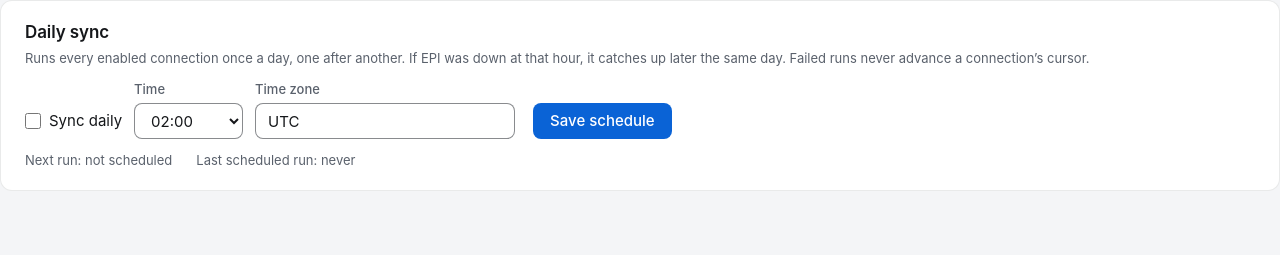
SyncScheduleCard › saves the schedule with the CSRF header and shows the next run
Expected: the text "Next run: not scheduled" is shown, [25, 151, 172, 170]
Click the checkbox labelled "Sync daily".
click(33, 121)  # box [25, 113, 41, 129]
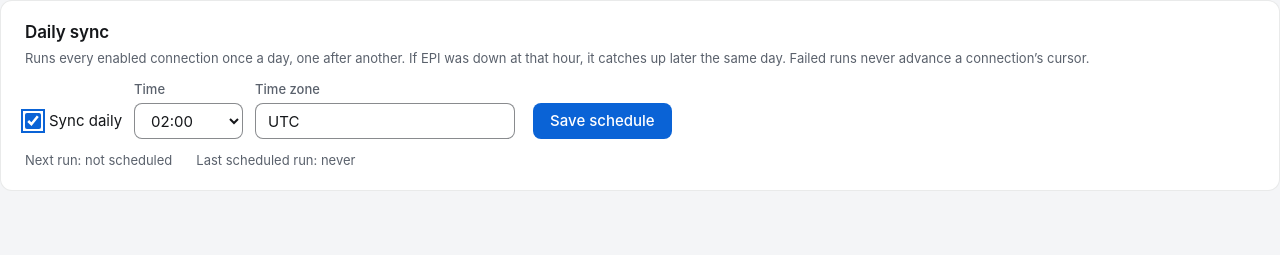
Select "03:00" in the dropdown labelled "Time" at [189, 121], box [134, 103, 243, 139]
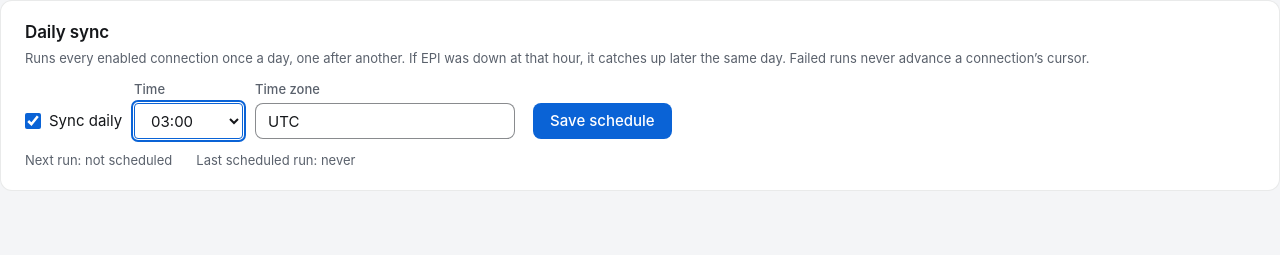
Replace the text in the field labelled "Time zone" with "Asia/Jerusalem" at [385, 121], box [255, 103, 515, 139]
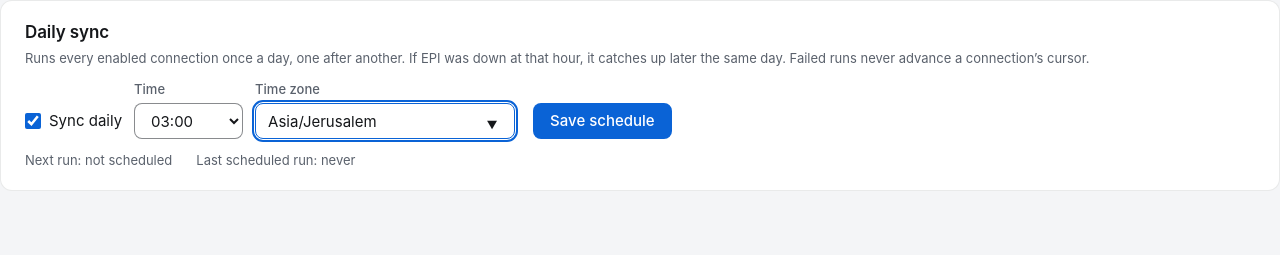
Click the button "Save schedule".
click(602, 121)  # box [533, 103, 672, 139]
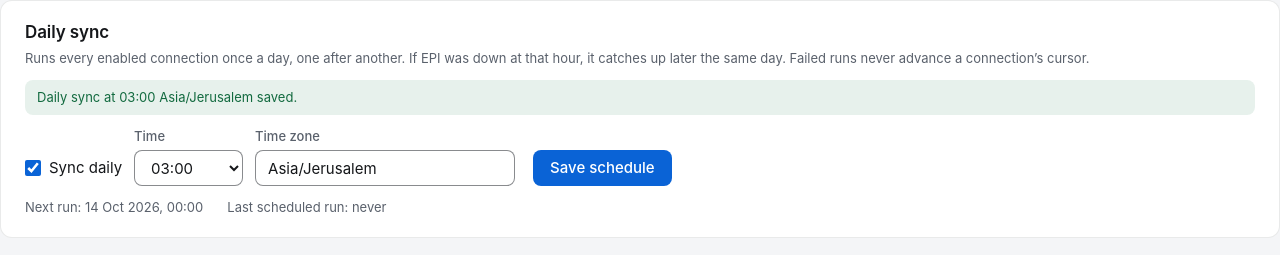
Expected: the text "Last scheduled run: never" is shown, [227, 198, 386, 217]
Expected: the text "Daily sync at 03:00 Asia/Jerusalem saved." is shown, [25, 80, 1255, 115]
Expected: the text "Next run: not scheduled" is gone
